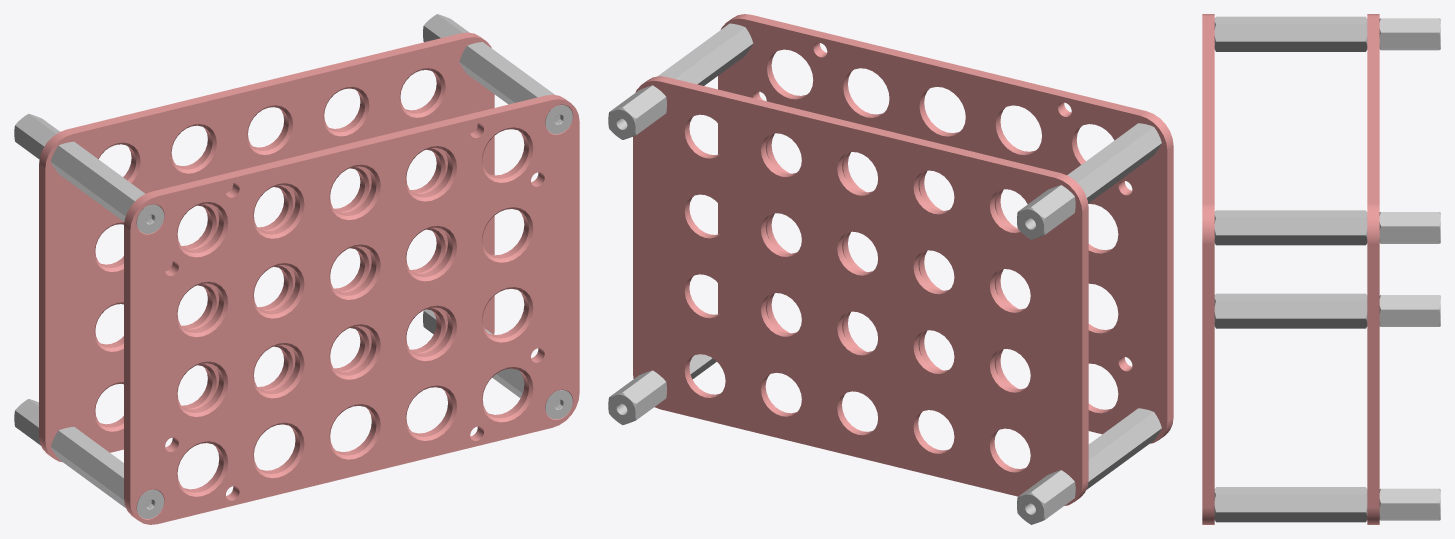
The model's file is rack_falcon_15ml.glb.
3 views of the same model, side by side, from view 1: azimuth 30°, elevation 25°; view 2: azimuth 150°, elevation 25°; view 3: azimuth 270°, elevation 25° (orthographic). The views are drawn at different scales.
Parts seen in each view (by area): view 1: plate_falcon_15ml; view 2: plate_falcon_15ml; view 3: plate_falcon_15ml.
Part boxes in pixels (x1,y1,x2,y2): plate_falcon_15ml: (14,14,579,524); plate_falcon_15ml: (608,14,1173,524); plate_falcon_15ml: (1202,14,1440,524).
Size of the model in its own units: 165 by 115 by 78.
